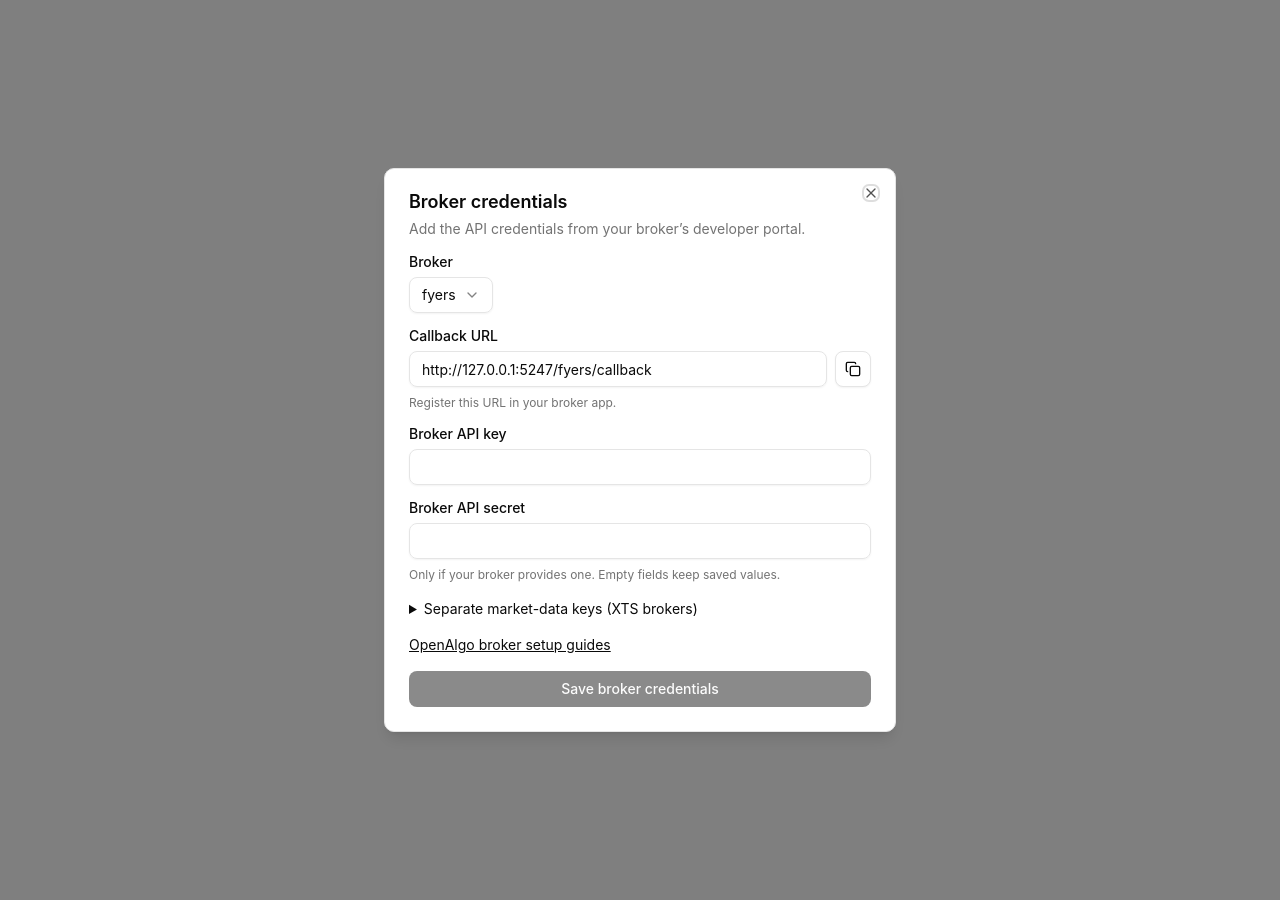
BrokerCredentialsSetup › shows the native credential validation error without claiming success
Step 1. Type "fixture-key" into the password field labelled "Broker API key" → coordinates (640, 467), box [409,449,871,485]
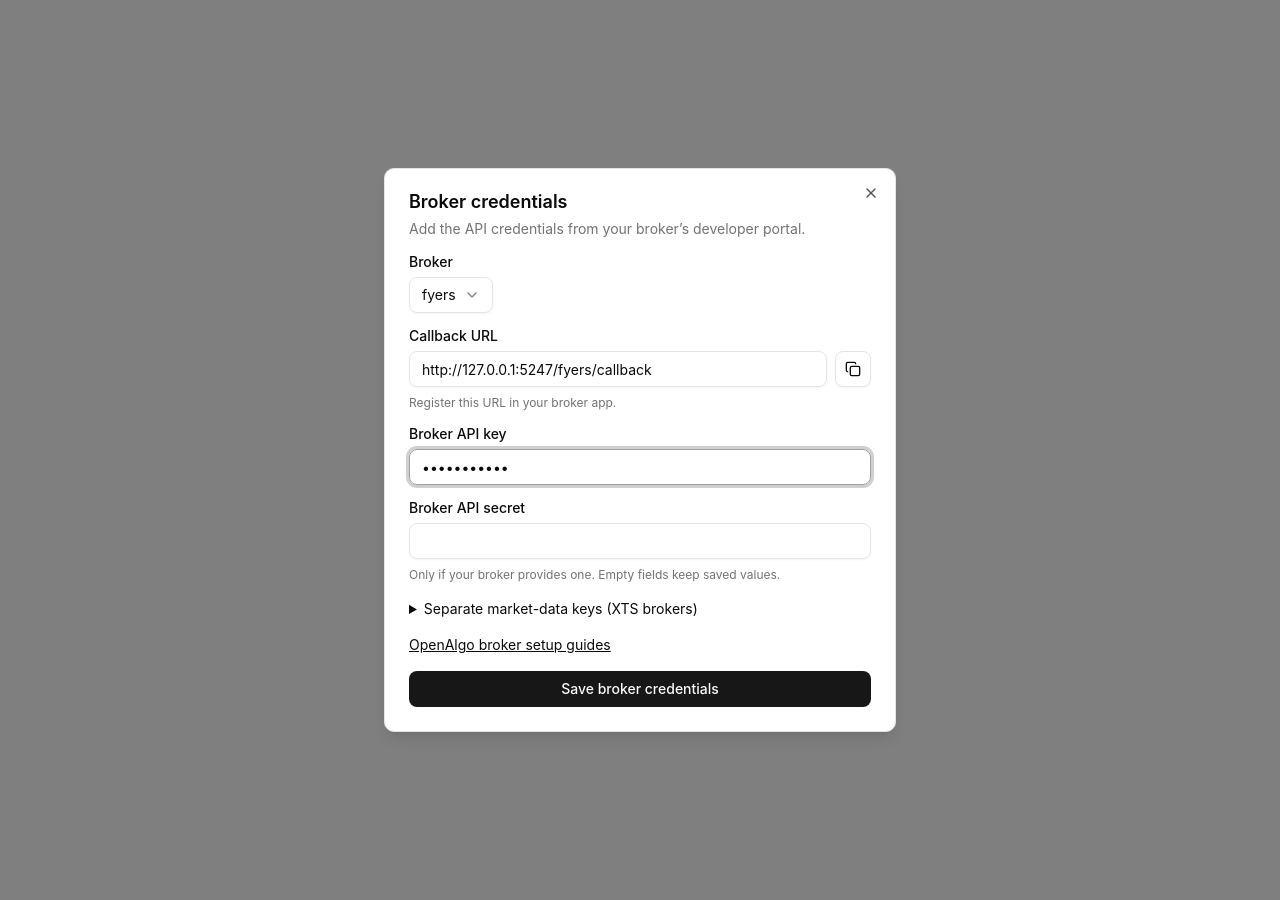
Step 2. Click the button "Save broker credentials" → coordinates (640, 689), box [409,671,871,707]
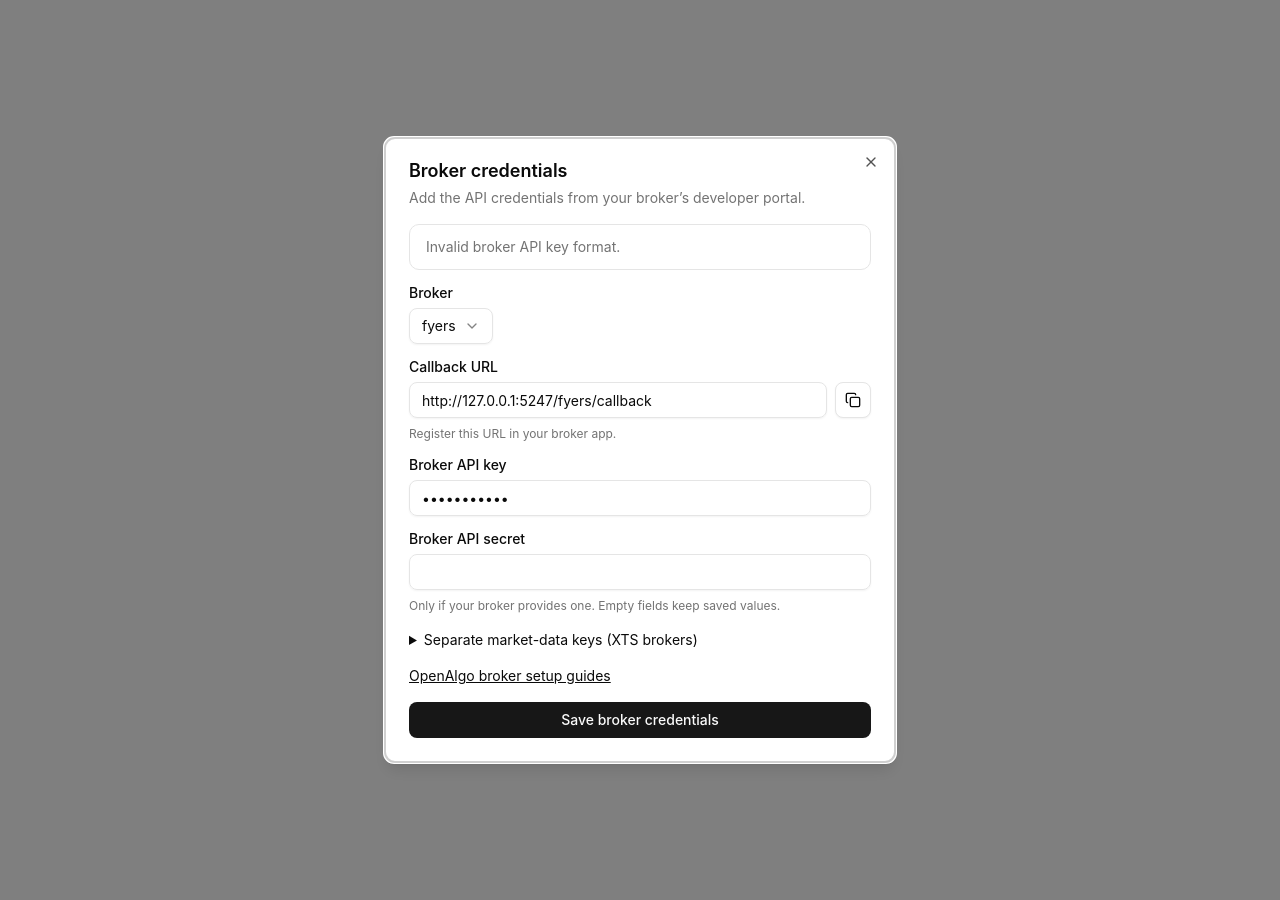
expect the text "Invalid broker API key format." is shown: met, box [426,238,620,255]
